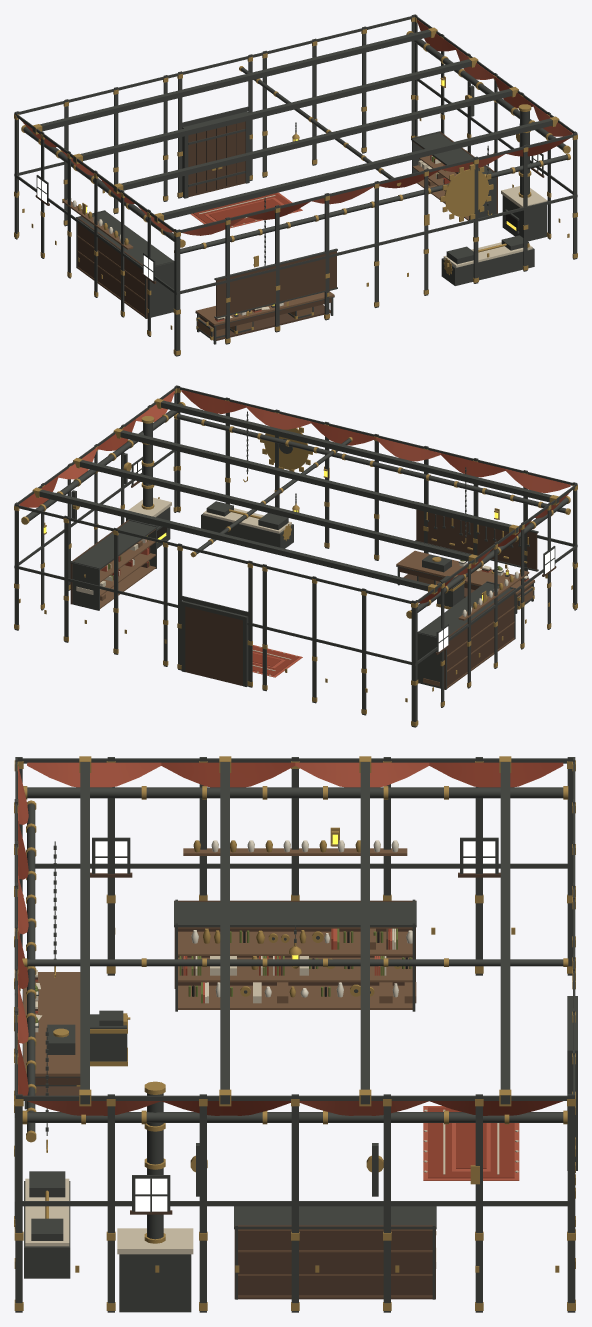
The model's file is workshop_set.glb.
The picture shows the model from 3 angles, top to bottom: view 1: azimuth 30°, elevation 25°; view 2: azimuth 150°, elevation 25°; view 3: azimuth 270°, elevation 25°; orthographic projection. The views are drawn at different scales.
Visible parts, largest first — view 1: workshop_set; view 2: workshop_set; view 3: workshop_set.
Boxes of the visible parts, box(x1,y1,x2,y2) form: workshop_set: box(14, 14, 577, 356); workshop_set: box(14, 385, 577, 727); workshop_set: box(14, 756, 577, 1312).
Bounding box in the file's own units: 20.06 × 6.02 × 14.1.
